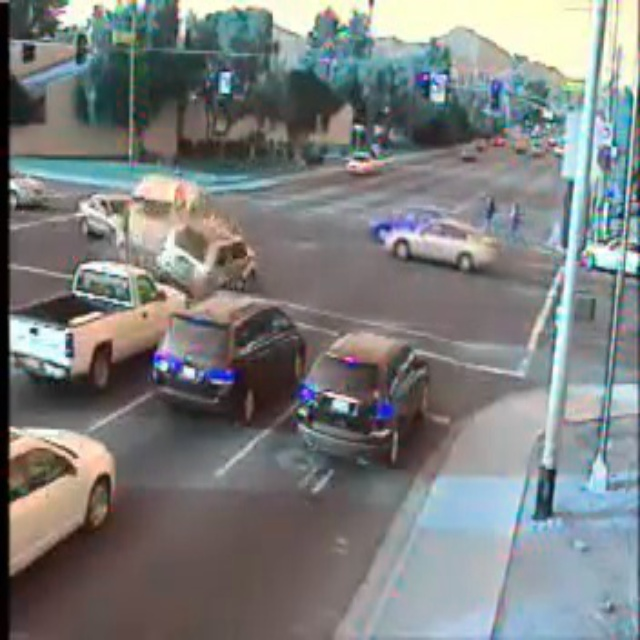acc: (70, 179, 257, 286)
